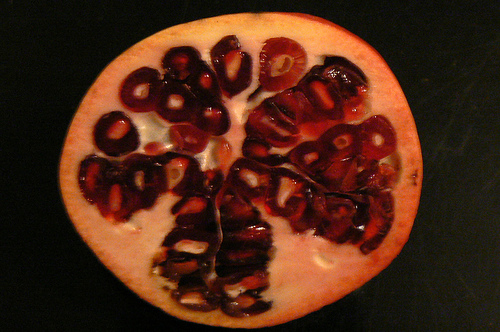pomogranate: (59, 9, 421, 323)
